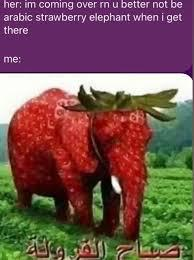strawberry-elephant: (9, 87, 178, 240)
